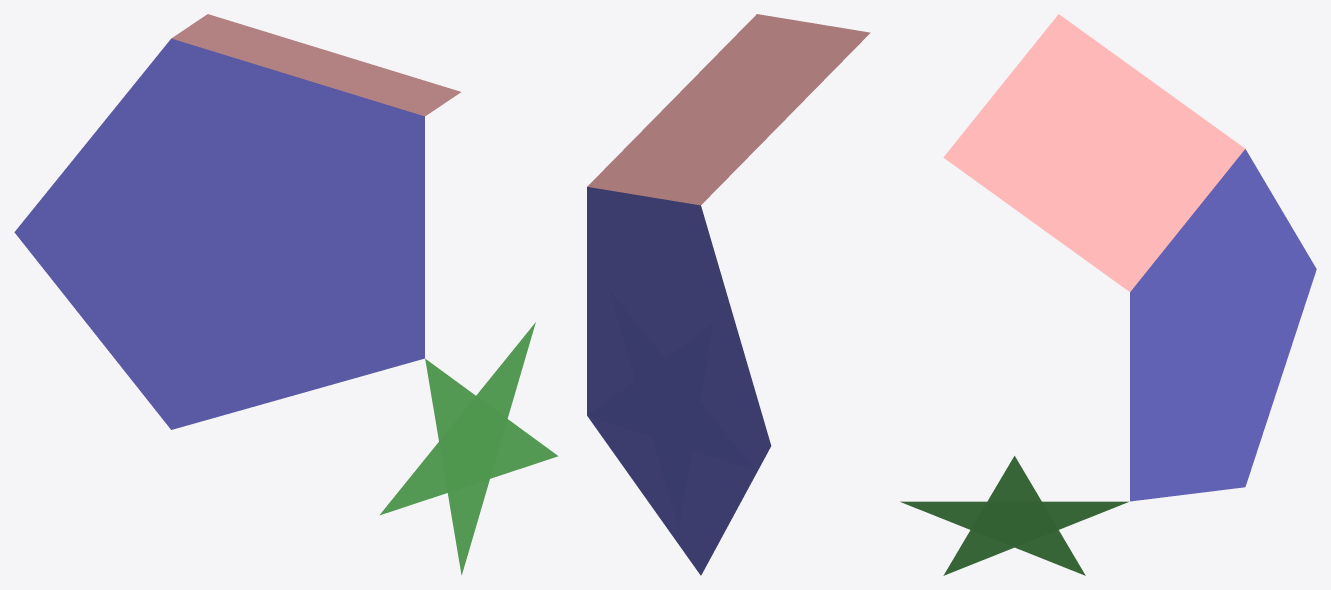
The model's file is RhombidodecadodecahedronF.obj.
The picture shows the model from 3 angles, left to right: view 1: azimuth 30°, elevation 25°; view 2: azimuth 150°, elevation 25°; view 3: azimuth 270°, elevation 25°; orthographic projection. The views are drawn at different scales.
Size of the model in its own units: 1.5 by 2.31 by 1.81.
